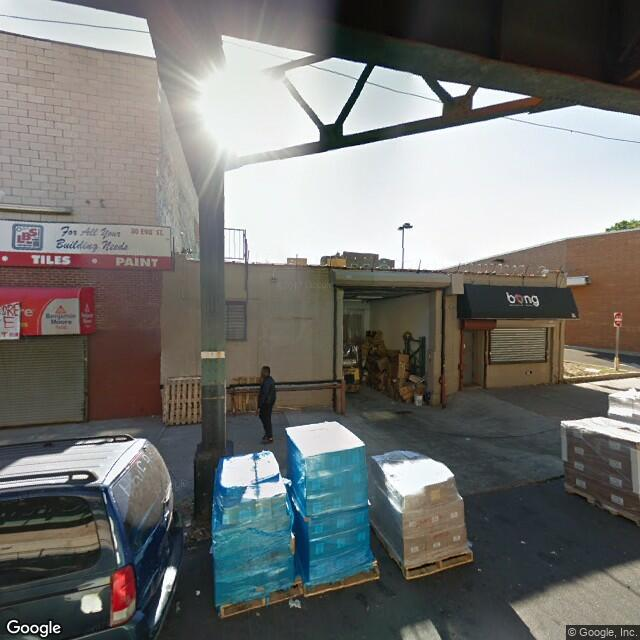litter: (286, 597, 303, 611), (194, 585, 202, 600), (517, 537, 526, 547), (549, 548, 557, 555)
